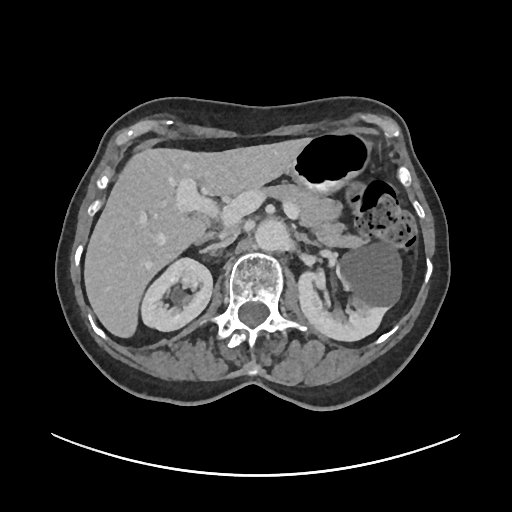Lesion: (335, 241, 406, 311)
